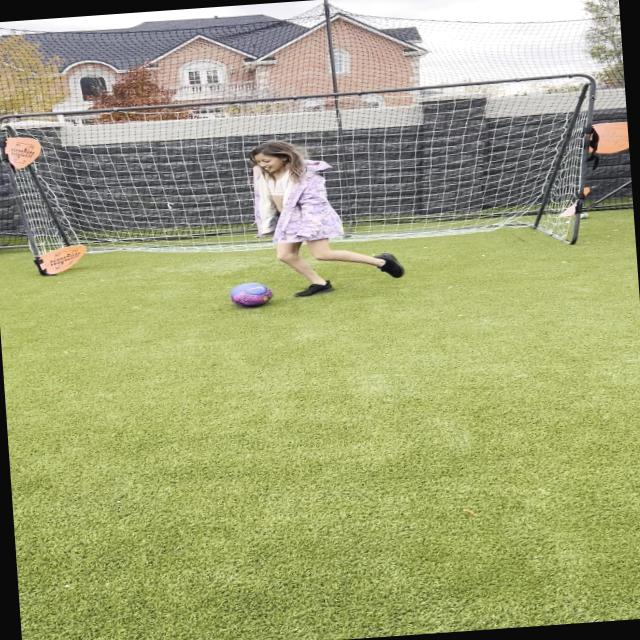Soccer Ball: (227, 280, 273, 307)
